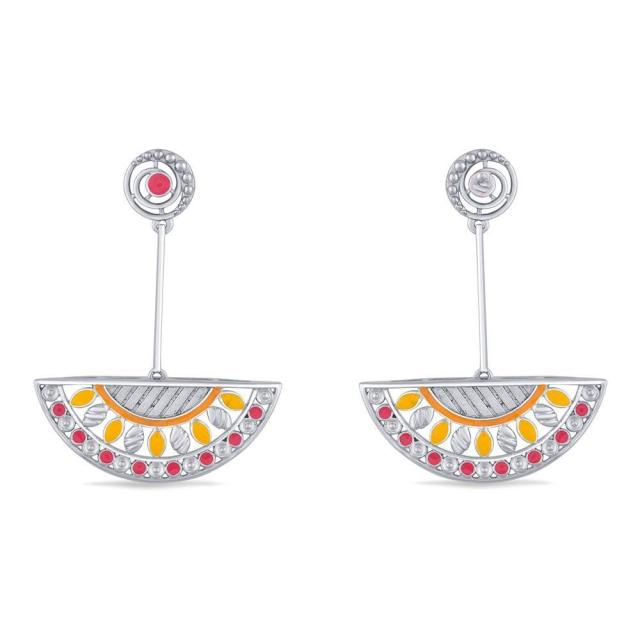missing gem: (468, 171, 495, 196)
